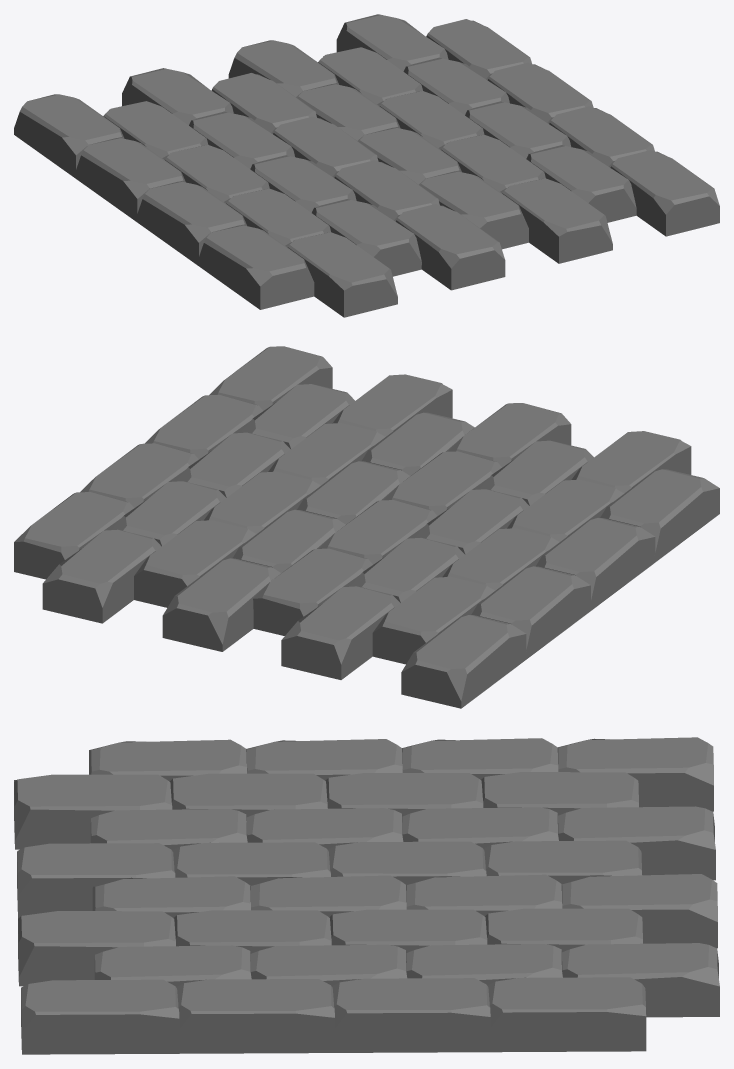
Rendered from Garden Walkway.fbx.
The picture shows the model from 3 angles, top to bottom: view 1: azimuth 30°, elevation 25°; view 2: azimuth 150°, elevation 25°; view 3: azimuth 270°, elevation 25°; orthographic projection. The views are drawn at different scales.
Visible parts, largest first — view 1: Garden Walkway; view 2: Garden Walkway; view 3: Garden Walkway.
Part boxes in pixels (x1,y1,x2,y2): Garden Walkway: [14, 14, 719, 317]; Garden Walkway: [14, 346, 719, 708]; Garden Walkway: [14, 737, 719, 1054].
Bounding box in the file's own units: 206 × 222 × 14.38.
